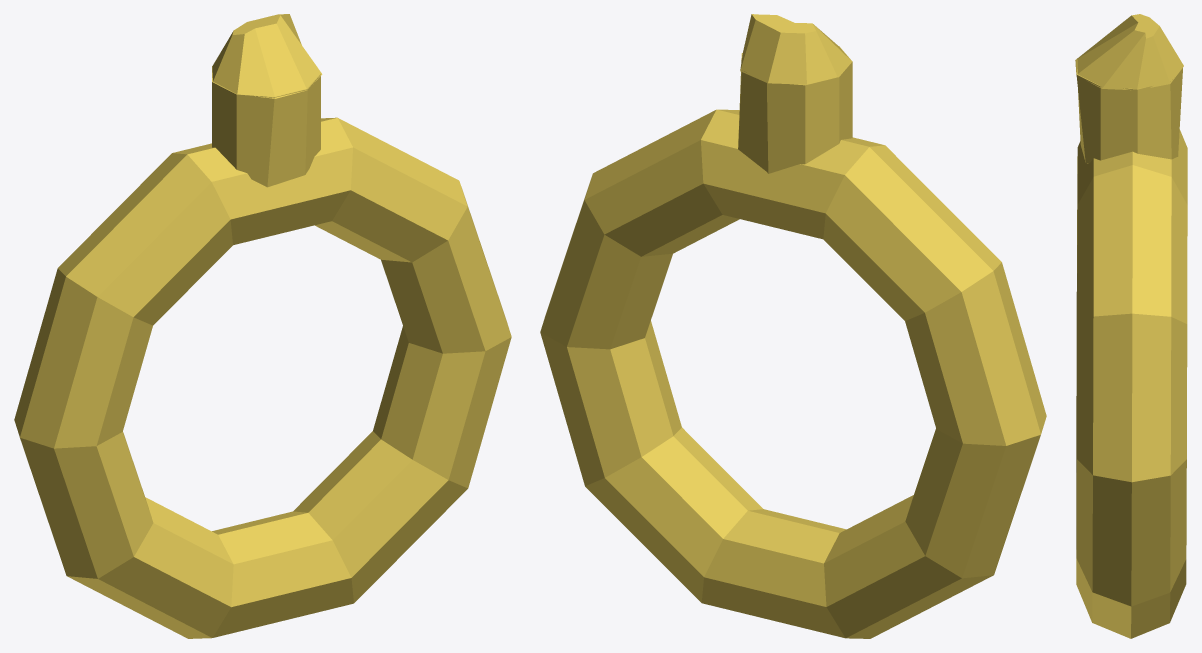
File: keygragment1.fbx
3 renders of one model, left to right at view 1: azimuth 30°, elevation 25°; view 2: azimuth 150°, elevation 25°; view 3: azimuth 270°, elevation 25°, orthographic. The views are drawn at different scales.
Parts seen in each view (by area): view 1: Torus.001; view 2: Torus.001; view 3: Torus.001.
Part boxes in pixels (x1=…): Torus.001: x1=14, y1=14, x2=511, y2=638; Torus.001: x1=540, y1=14, x2=1046, y2=638; Torus.001: x1=1075, y1=14, x2=1187, y2=638.
Size of the model in its own units: 15 by 17.52 by 3.06.
